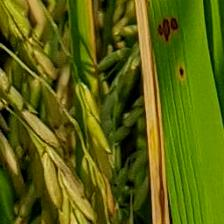0 BrownSpot: (154, 9, 185, 41), (173, 60, 191, 82)
